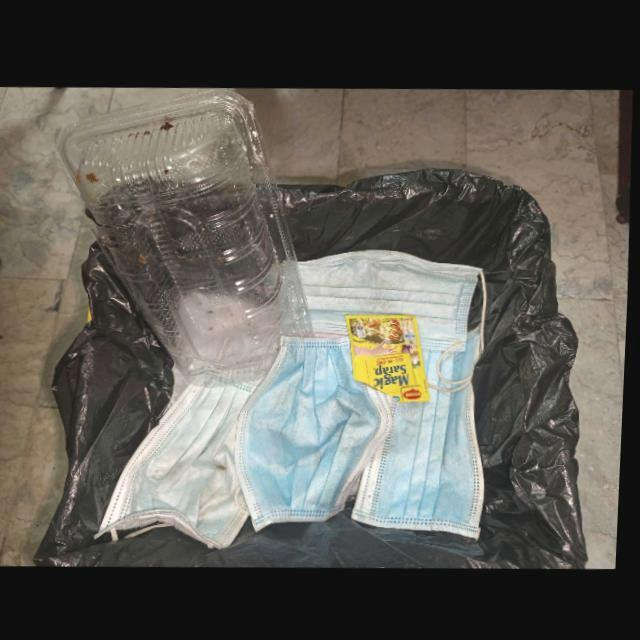plastic_container: (56, 88, 318, 384)
plastic_sachet: (348, 310, 434, 400)
